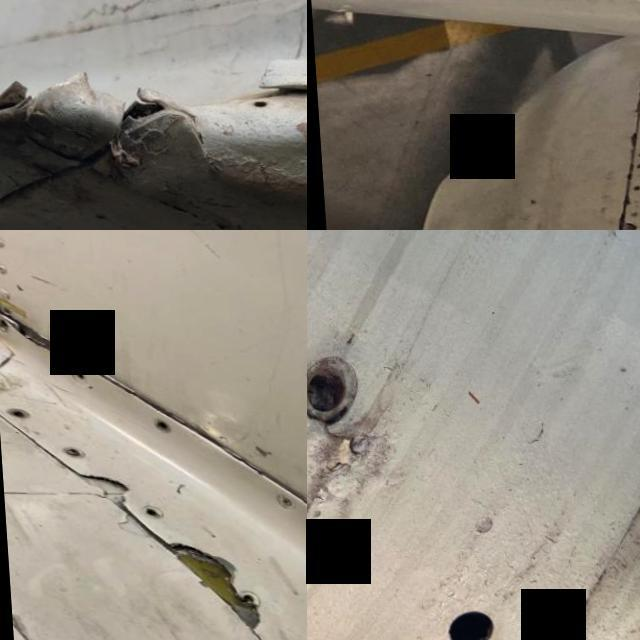Crack: (0, 32, 93, 142), (152, 538, 258, 632), (102, 67, 190, 138), (310, 416, 376, 481), (0, 314, 68, 359), (74, 472, 128, 508)
Missing_Fastener: (136, 498, 156, 518), (1, 406, 28, 420), (145, 417, 172, 431), (62, 367, 86, 382)
